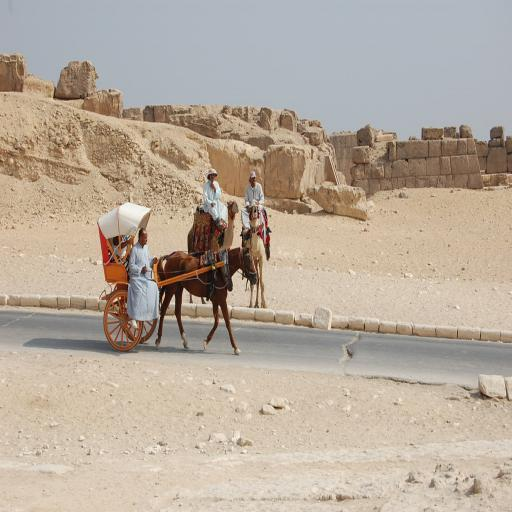horse: (153, 246, 257, 356)
